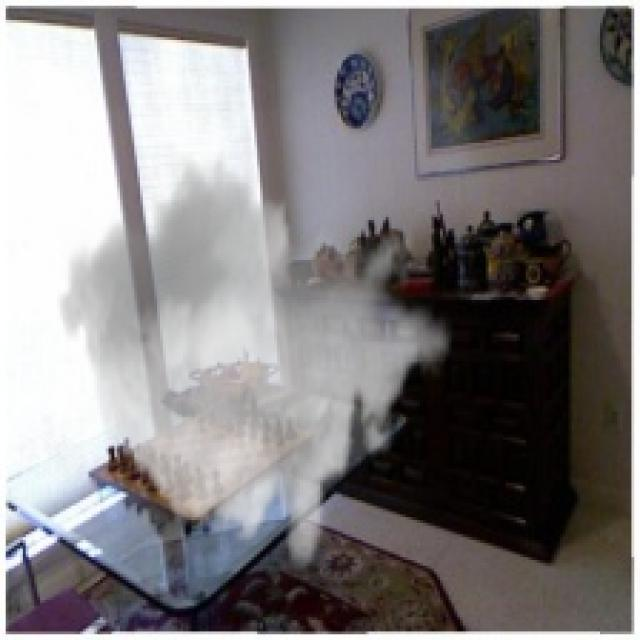Smoke: (57, 152, 454, 574)
